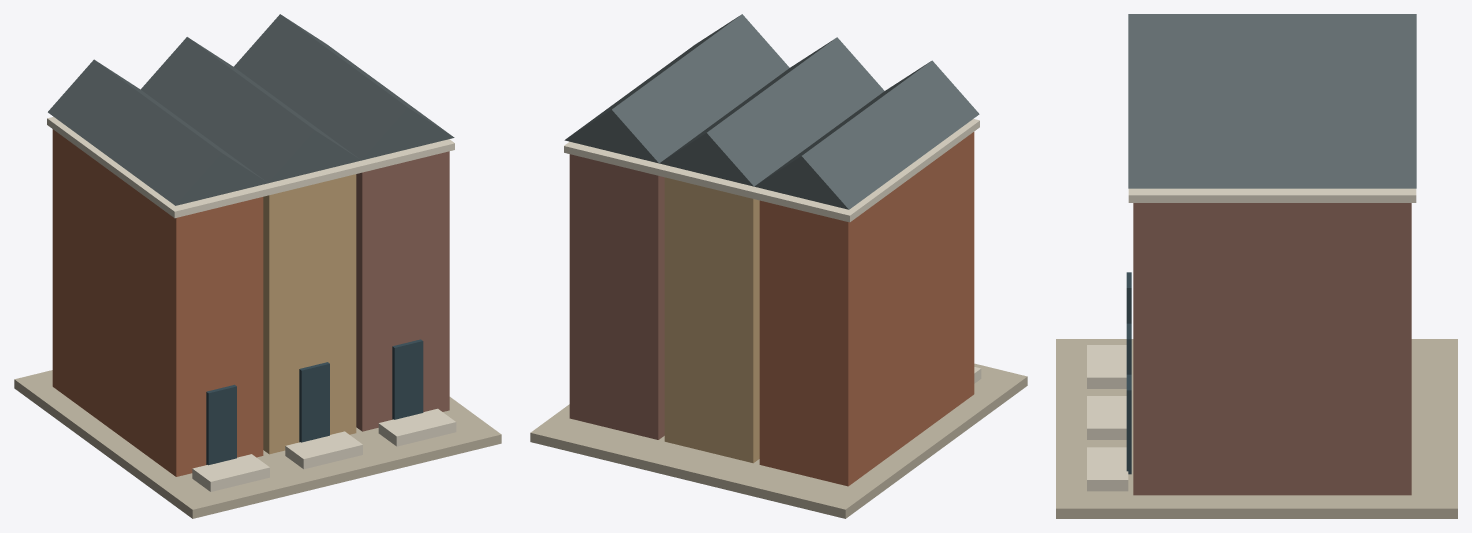
Rendered from townhouse_lod.glb.
The picture shows the model from 3 angles, left to right: view 1: azimuth 30°, elevation 25°; view 2: azimuth 150°, elevation 25°; view 3: azimuth 270°, elevation 25°; orthographic projection. The views are drawn at different scales.
Visible parts, largest first — view 1: townhouse_Building_Volume, townhouse_Building_Volume.002, townhouse_Building_Volume.001, townhouse_Site_Paving, townhouse_Gable_Roof, townhouse_Gable_Roof.001, townhouse_Gable_Roof.002, townhouse_Roof_Coping, townhouse_Front_Door.002, townhouse_Front_Door.001, townhouse_Front_Door, townhouse_Entry_Stair.002 (+4 smaller); view 2: townhouse_Building_Volume, townhouse_Building_Volume.001, townhouse_Building_Volume.002, townhouse_Site_Paving, townhouse_Gable_Roof.001, townhouse_Gable_Roof, townhouse_Gable_Roof.002, townhouse_Roof_Coping, townhouse_Roof_Coping.002, townhouse_Roof_Coping.001; view 3: townhouse_Building_Volume.002, townhouse_Site_Paving, townhouse_Gable_Roof.002, townhouse_Gable_Roof, townhouse_Gable_Roof.001, townhouse_Roof_Coping.002, townhouse_Entry_Stair.002, townhouse_Entry_Stair, townhouse_Entry_Stair.001, townhouse_Front_Door.002.
Part boxes in pixels (left/top/right/bottom): townhouse_Building_Volume: left=52, top=129, right=263, bottom=476; townhouse_Building_Volume.002: left=356, top=151, right=449, bottom=431; townhouse_Building_Volume.001: left=263, top=174, right=356, bottom=454; townhouse_Site_Paving: left=14, top=370, right=501, bottom=518; townhouse_Gable_Roof: left=48, top=59, right=268, bottom=205; townhouse_Gable_Roof.001: left=141, top=37, right=361, bottom=182; townhouse_Gable_Roof.002: left=234, top=14, right=454, bottom=160; townhouse_Roof_Coping: left=47, top=117, right=268, bottom=218; townhouse_Front_Door.002: left=392, top=339, right=423, bottom=419; townhouse_Front_Door.001: left=299, top=362, right=329, bottom=442; townhouse_Front_Door: left=206, top=384, right=236, bottom=465; townhouse_Entry_Stair.002: left=378, top=408, right=456, bottom=446; townhouse_Building_Volume: left=759, top=132, right=974, bottom=486; townhouse_Building_Volume.001: left=664, top=177, right=759, bottom=463; townhouse_Building_Volume.002: left=569, top=154, right=664, bottom=439; townhouse_Site_Paving: left=530, top=363, right=1027, bottom=518; townhouse_Gable_Roof.001: left=659, top=37, right=884, bottom=186; townhouse_Gable_Roof: left=754, top=60, right=979, bottom=209; townhouse_Gable_Roof.002: left=564, top=14, right=789, bottom=163; townhouse_Roof_Coping: left=753, top=119, right=979, bottom=222; townhouse_Roof_Coping.002: left=564, top=141, right=664, bottom=175; townhouse_Roof_Coping.001: left=659, top=165, right=758, bottom=198; townhouse_Building_Volume.002: left=1133, top=203, right=1411, bottom=495; townhouse_Site_Paving: left=1056, top=339, right=1457, bottom=518; townhouse_Gable_Roof.002: left=1128, top=116, right=1416, bottom=188; townhouse_Gable_Roof: left=1128, top=14, right=1416, bottom=65; townhouse_Gable_Roof.001: left=1128, top=65, right=1416, bottom=116; townhouse_Roof_Coping.002: left=1128, top=188, right=1416, bottom=202; townhouse_Entry_Stair.002: left=1087, top=447, right=1128, bottom=491; townhouse_Entry_Stair: left=1087, top=345, right=1126, bottom=388; townhouse_Entry_Stair.001: left=1087, top=396, right=1126, bottom=439; townhouse_Front_Door.002: left=1126, top=374, right=1131, bottom=474.
Size of the model in its own units: 7.8 by 7.9 by 7.8.
